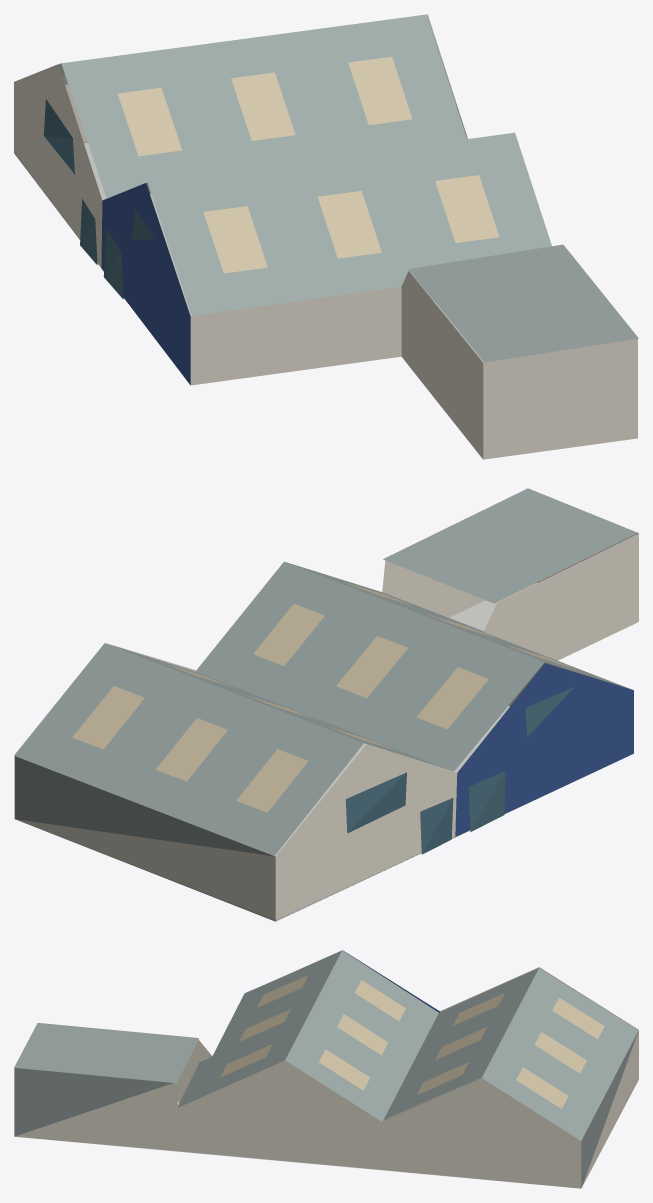
File: nieuw-dakota.lod2.glb
3 views of the same model, one above another, from view 1: azimuth 30°, elevation 25°; view 2: azimuth 150°, elevation 25°; view 3: azimuth 270°, elevation 25° (orthographic). The views are drawn at different scales.
Visible parts, largest first — view 1: lod2; view 2: lod2; view 3: lod2.
Boxes of the visible parts, box(x1,y1,x2,y2) form: lod2: box(14, 14, 638, 459); lod2: box(14, 488, 638, 921); lod2: box(14, 950, 638, 1188).
Bounding box in the file's own units: 26.51 × 8.64 × 47.49.
